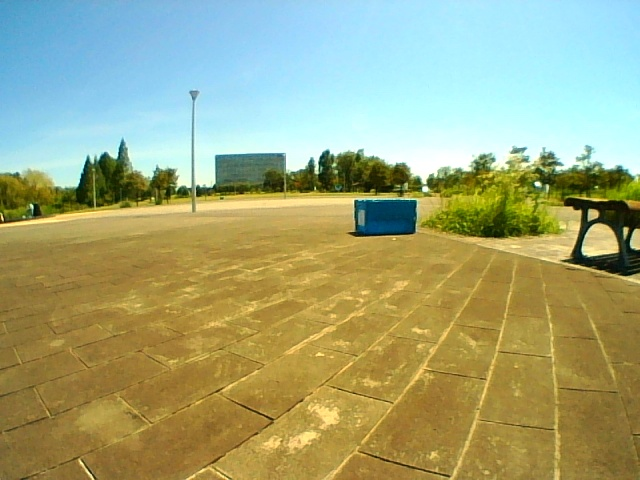blue_box: (354, 200, 416, 233)
tag: (358, 211, 364, 226)
